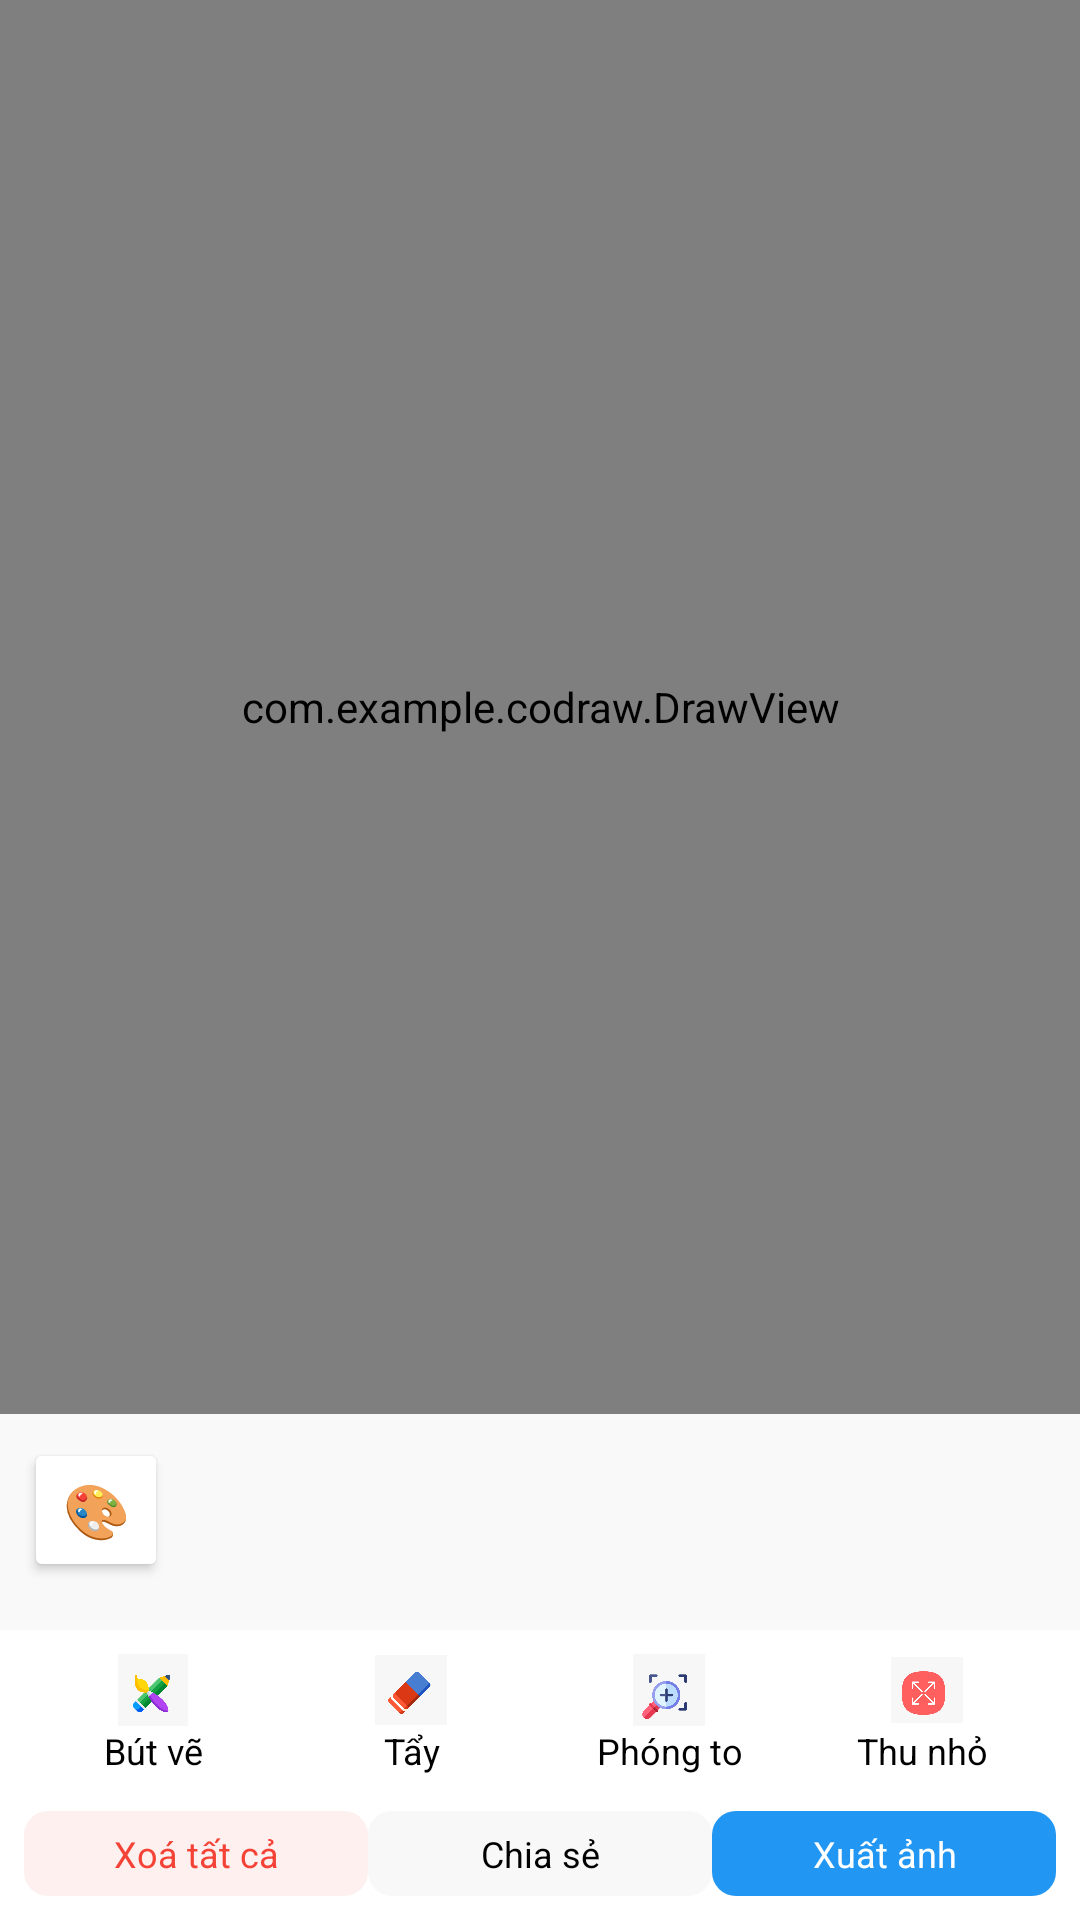

Where to tap for icons on this 1080*1920 app screen, as (x,y):
thuphong: (923,1693)
